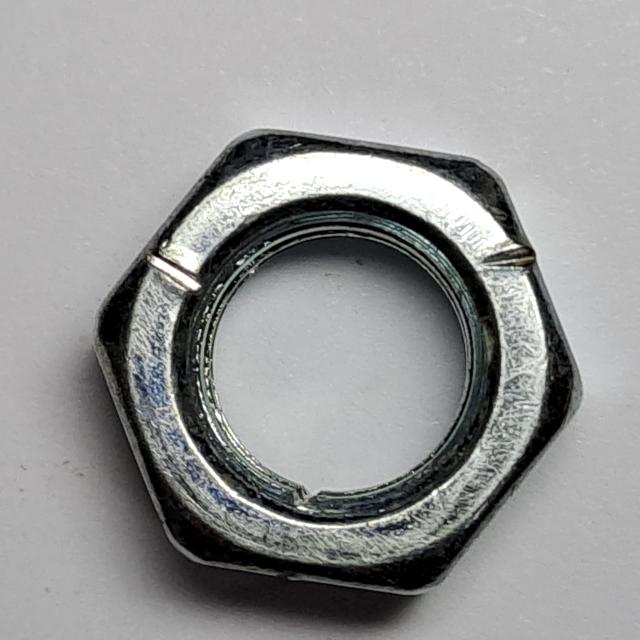Scratches: (77, 117, 599, 607)
